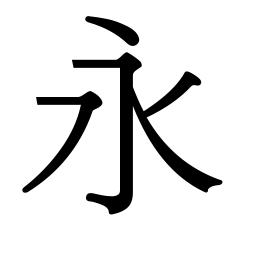D: (83, 13, 142, 48)
HSZ: (111, 51, 143, 84)
Hs: (68, 56, 104, 72)
Ne: (184, 166, 227, 197)
PNc: (137, 101, 159, 127)
PZe: (20, 170, 47, 196)
Ps: (175, 68, 205, 97)
SG: (85, 183, 139, 217)
Sm: (116, 130, 136, 159)
TPZ: (74, 88, 104, 135)
Ts: (34, 93, 58, 110)
